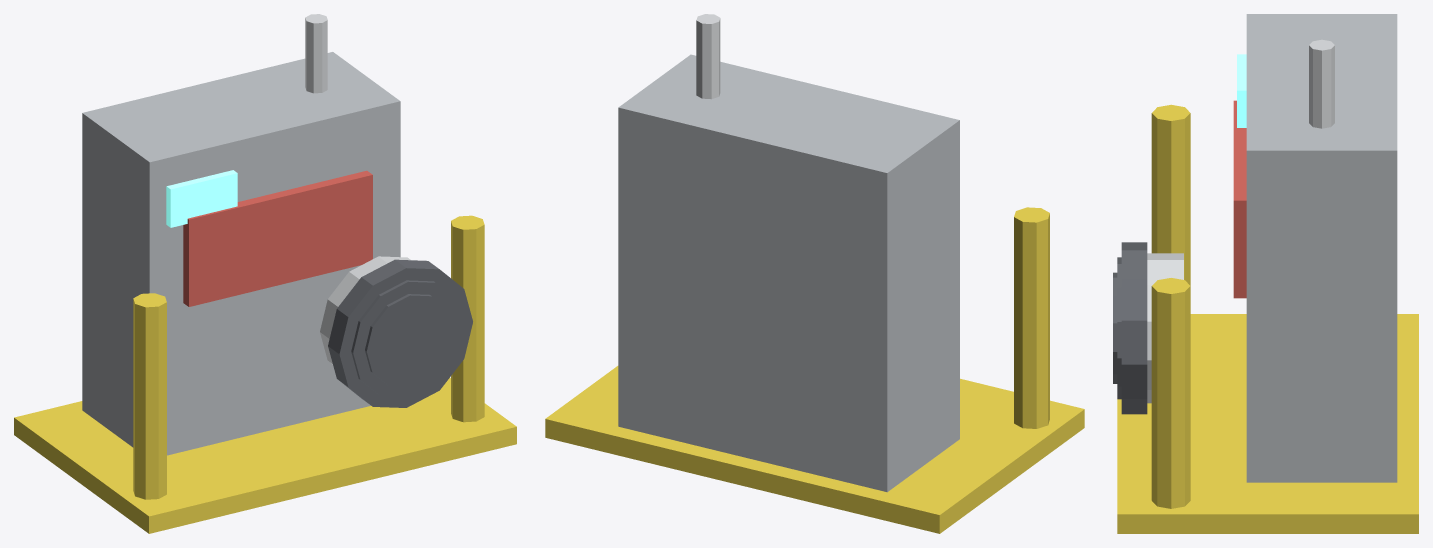
Rendered from ferry-terminal-and-harbour-crossing-ferry-terminal-and-2de6f919__35630.glb.
3 renders of one model, left to right at view 1: azimuth 30°, elevation 25°; view 2: azimuth 150°, elevation 25°; view 3: azimuth 270°, elevation 25°, orthographic. The views are drawn at different scales.
Parts seen in each view (by area): view 1: ferry-terminal-and-harbour-crossing-fuel-bunker-point; view 2: ferry-terminal-and-harbour-crossing-fuel-bunker-point; view 3: ferry-terminal-and-harbour-crossing-fuel-bunker-point.
Boxes of the visible parts, x1,y1,x2,y2 form: ferry-terminal-and-harbour-crossing-fuel-bunker-point: [14, 14, 516, 533]; ferry-terminal-and-harbour-crossing-fuel-bunker-point: [545, 14, 1084, 533]; ferry-terminal-and-harbour-crossing-fuel-bunker-point: [1113, 14, 1418, 533].
Bounding box in the file's own units: 2.2 × 2.2 × 1.42.
